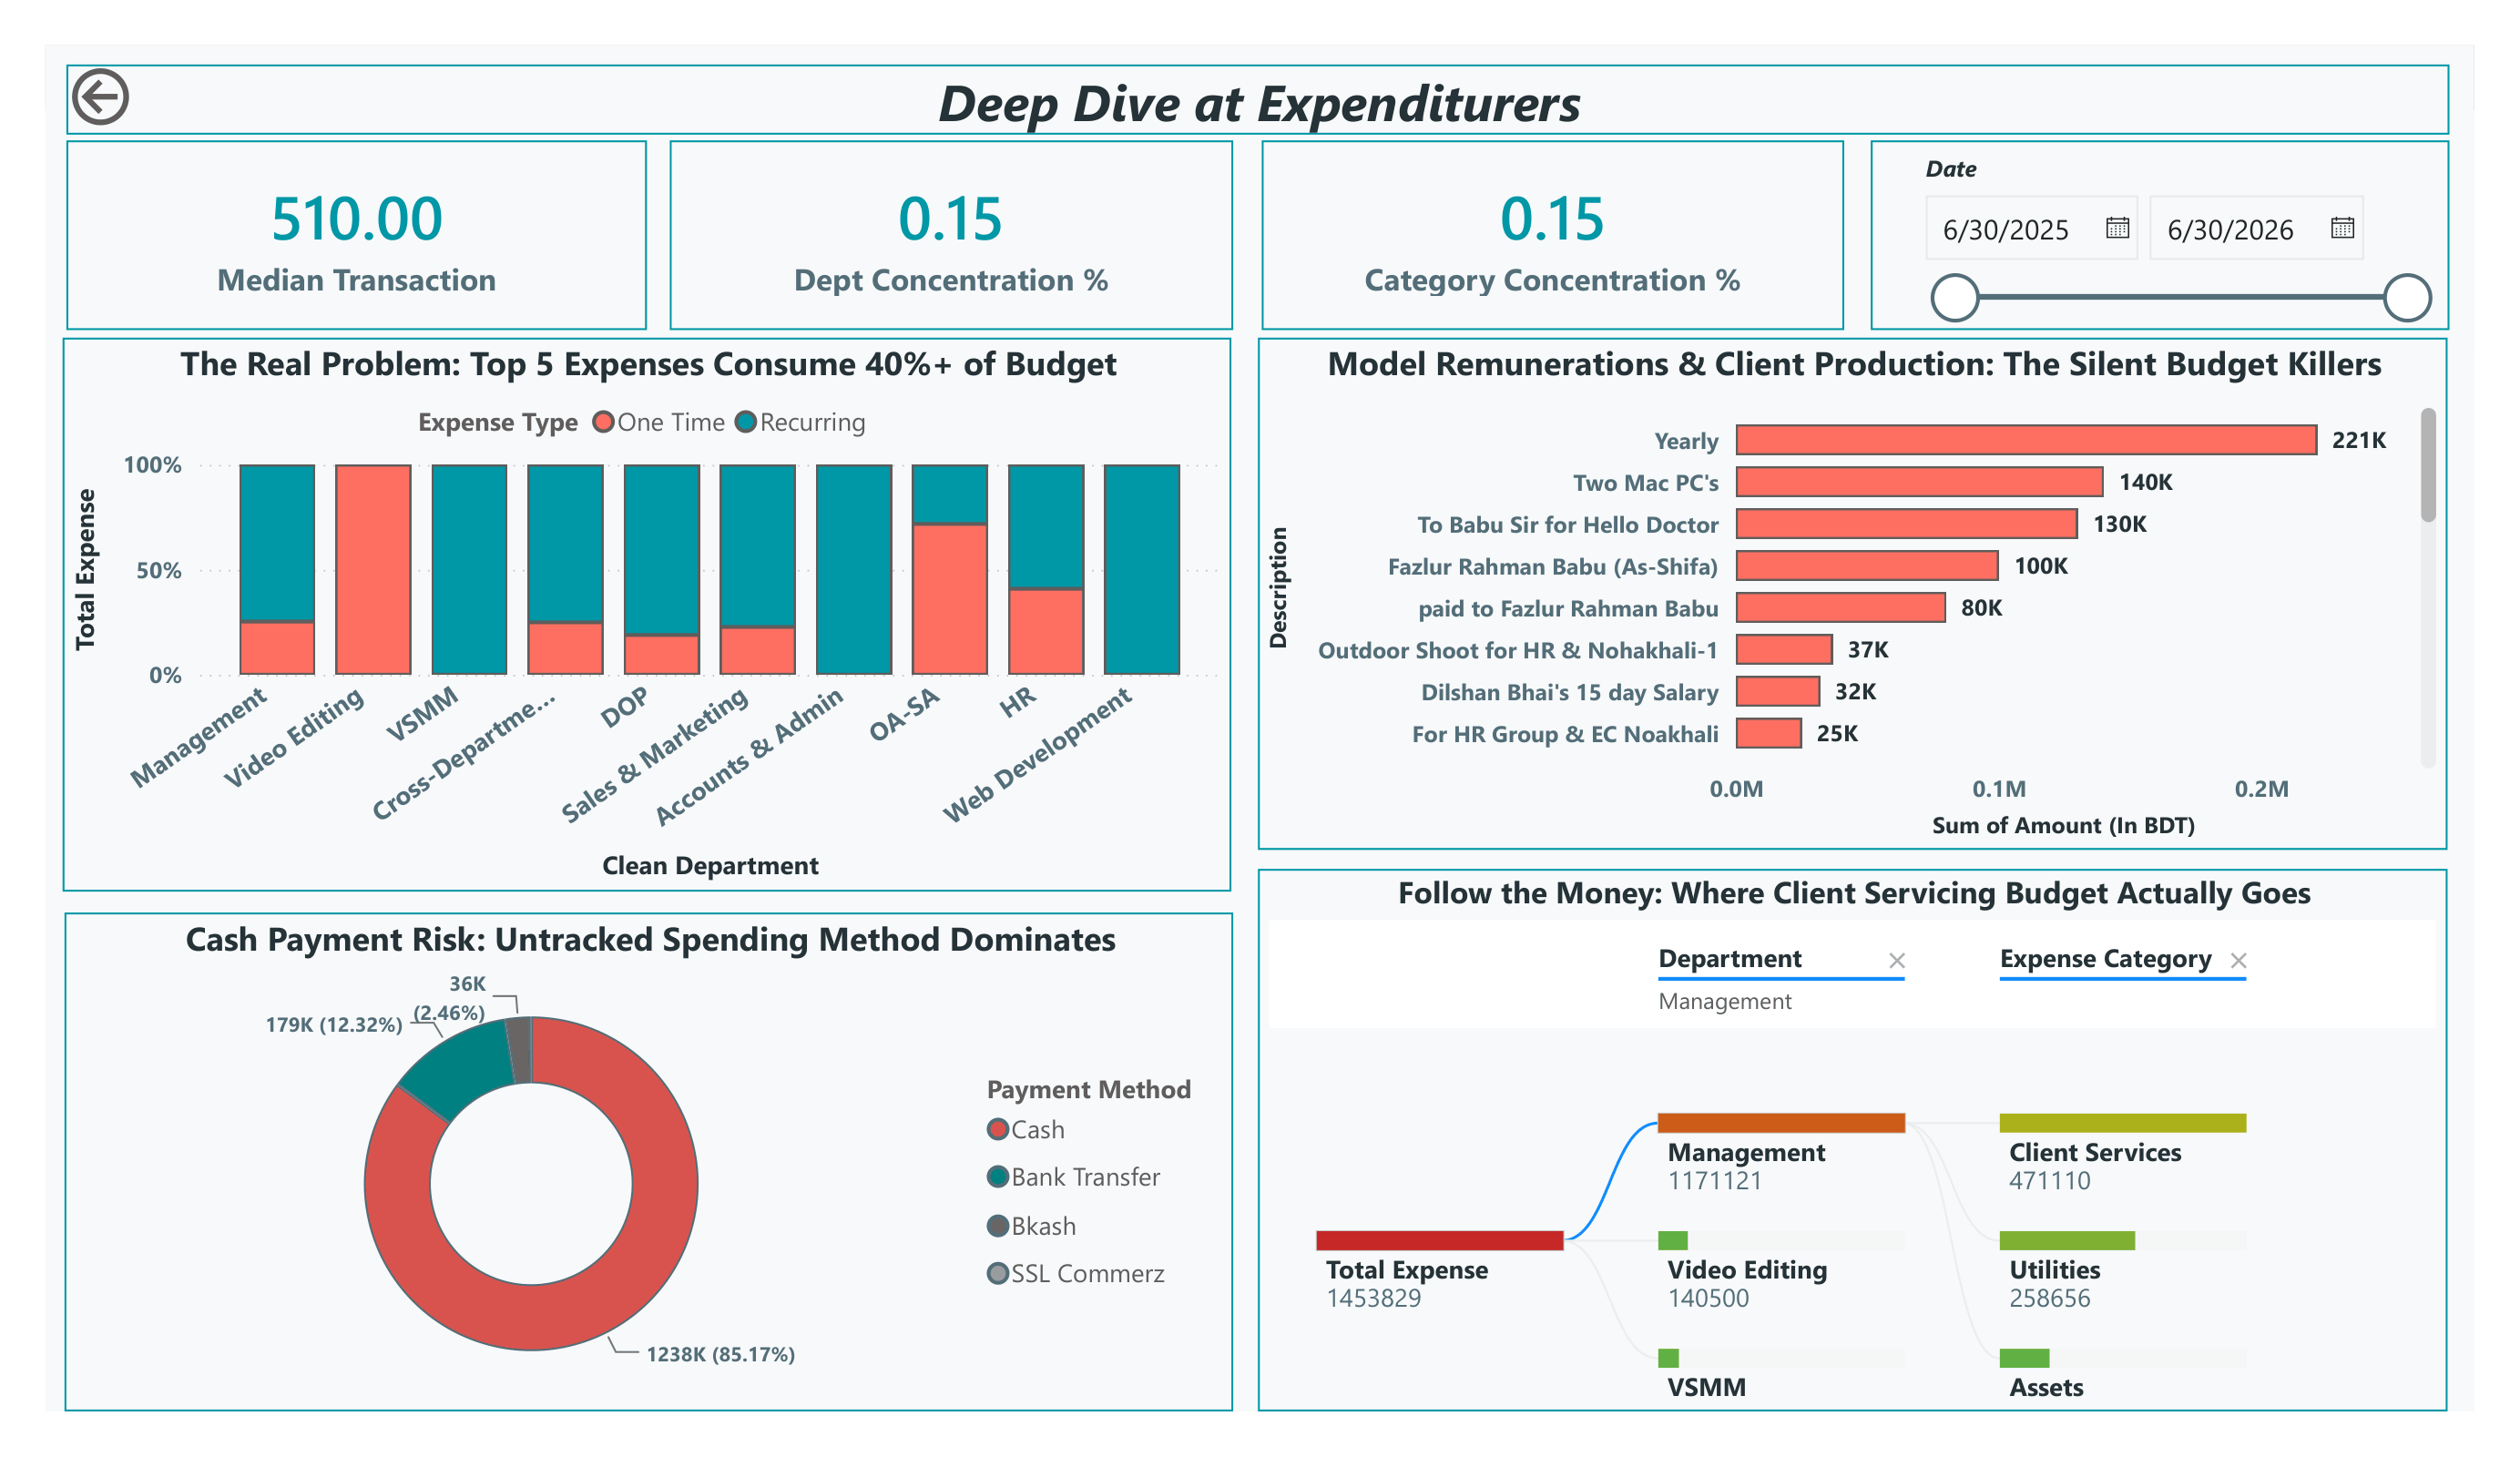

This screenshot's page, from the dashboard's own definition file:
{"tool":"powerbi","page":{"name":"Expense Detailed Analysis","canvas":[1280,720],"ordinal":1},"visuals":[{"type":"shape","title":"Deep Dive at Expenditurers","box":[11.3,9.9,1255.7,36.9],"z":0},{"type":"hundredPercentStackedColumnChart","title":"The Real Problem: Top 5 Expenses Consume 40%+ of Budget","fields":{"Y":["DAX Table.Total Expense"],"Series":["December-25.Expense Type"],"Category":["December-25.Clean Department"]},"box":[8.5,154.5,616.5,292],"z":1000},{"type":"clusteredBarChart","title":"Model Remunerations & Client Production: The Silent Budget Killers","fields":{"Category":["December-25.Description"],"Y":["Sum(December-25.Amount (In BDT))"]},"box":[639.2,154.5,626.5,269.3],"z":2000},{"type":"slicer","fields":{"Values":["December-25.Date"]},"box":[962.4,49.6,304.7,100.6],"z":3000},{"type":"decompositionTreeVisual","title":"Follow the Money: Where Client Servicing Budget Actually Goes","fields":{"Analyze":["DAX Table.Total Expense"],"ExplainBy":["December-25.Department","December-25.Expense Category"]},"box":[639.2,433.7,626.5,286.3],"z":4000},{"type":"donutChart","title":"Cash Payment Risk: Untracked Spending Method Dominates","fields":{"Y":["Sum(December-25.Amount (In BDT))"],"Category":["December-25.Payment Method"]},"box":[10.3,456.6,615.7,263.7],"z":5000},{"type":"cardVisual","fields":{"Data":["DAX Table.Category Concentration %"]},"box":[640.6,49.6,307.6,100.6],"z":6000},{"type":"cardVisual","fields":{"Data":["DAX Table.Dept Concentration %"]},"box":[329,49.6,297.1,100],"z":7000},{"type":"cardVisual","fields":{"Data":["DAX Table.Median Transaction"]},"box":[11.3,49.6,306.1,100.6],"z":8000},{"type":"actionButton","box":[8.5,7.1,58.1,39.7],"z":9000}]}

Visuals, with their boxes on the page's 1280x720 design canvas (x1, y1, x2, y2). These are canvas units, not pixel positions in the 2520x1457 screenshot, which may show the page scaled, cropped or inside an application window:
"Deep Dive at Expenditurers" shape: left=11, top=10, right=1267, bottom=47
"The Real Problem: Top 5 Expenses Consume 40%+ of Budget" hundredPercentStackedColumnChart: left=8, top=154, right=625, bottom=446
"Model Remunerations & Client Production: The Silent Budget Killers" clusteredBarChart: left=639, top=154, right=1266, bottom=424
slicer - December-25.Date: left=962, top=50, right=1267, bottom=150
"Follow the Money: Where Client Servicing Budget Actually Goes" decompositionTreeVisual: left=639, top=434, right=1266, bottom=720
"Cash Payment Risk: Untracked Spending Method Dominates" donutChart: left=10, top=457, right=626, bottom=720
cardVisual - DAX Table.Category Concentration %: left=641, top=50, right=948, bottom=150
cardVisual - DAX Table.Dept Concentration %: left=329, top=50, right=626, bottom=150
cardVisual - DAX Table.Median Transaction: left=11, top=50, right=317, bottom=150
actionButton: left=8, top=7, right=67, bottom=47
